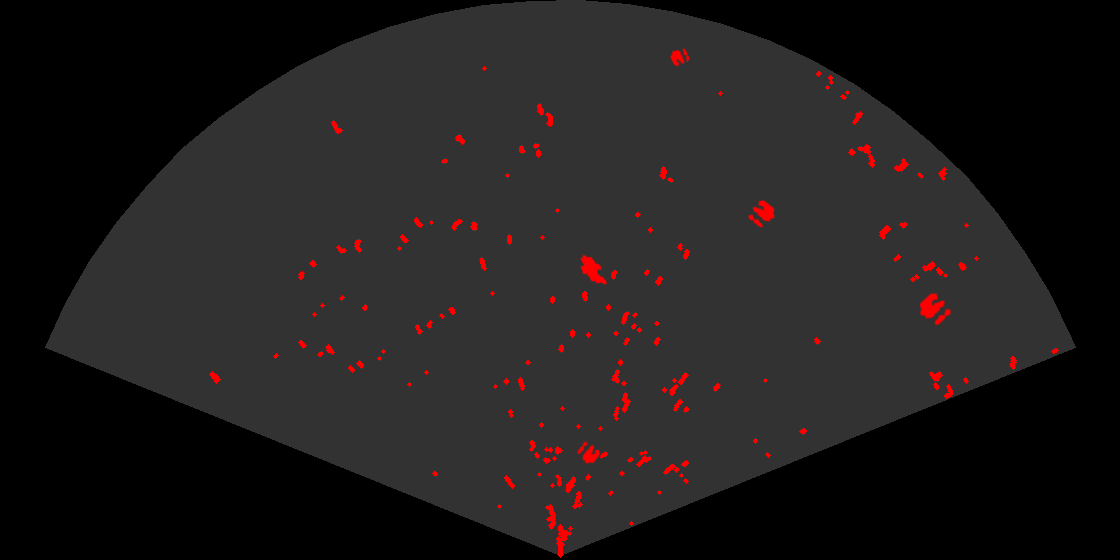AUV: (579, 253, 609, 286)
ball: (918, 291, 953, 327), (747, 199, 776, 229), (575, 440, 602, 465), (668, 46, 692, 68)
